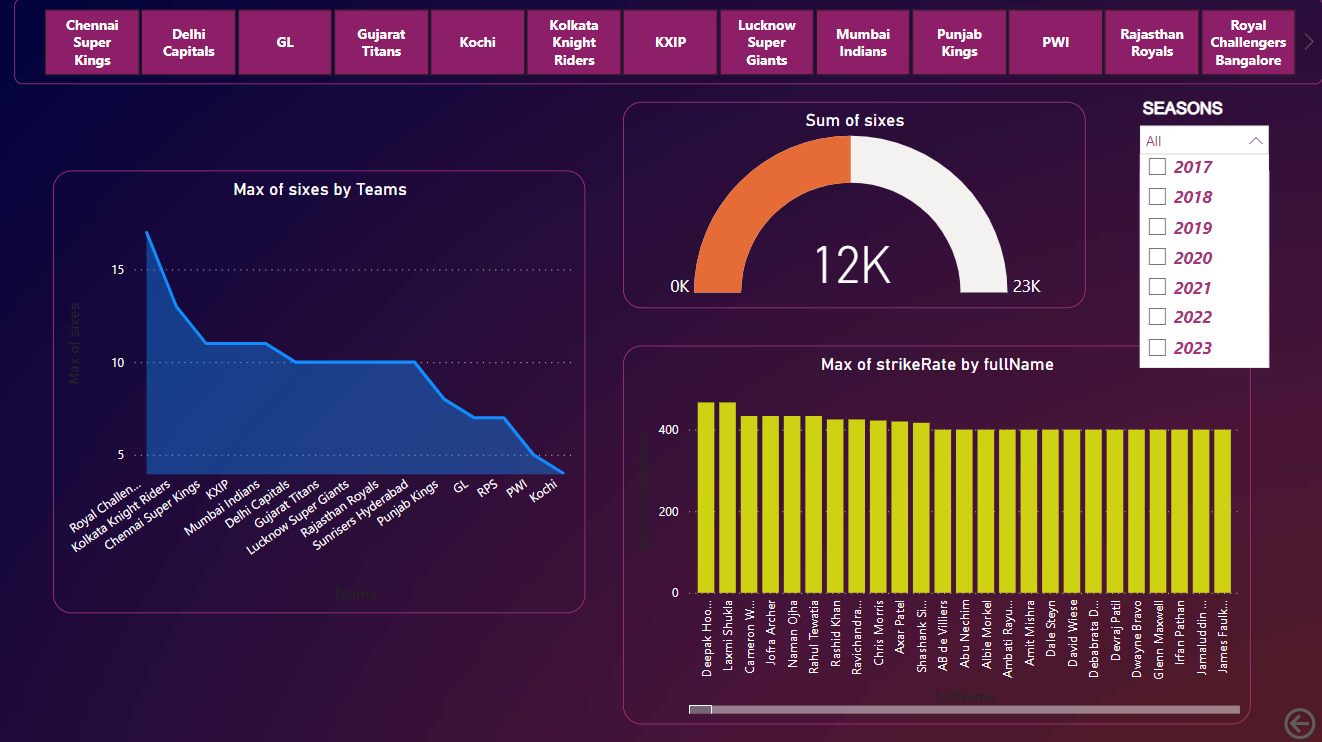

This screenshot's page, from the dashboard's own definition file:
{"tool":"powerbi","page":{"name":"Page 2","canvas":[1280,720],"ordinal":1},"visuals":[{"type":"slicer","title":"ALL seasons Number of sixes and Fours","fields":{"Values":["sixes.Teams"]},"box":[15.7,0,1263.9,83.2],"z":0},{"type":"gauge","fields":{"Y":["Sum(sixes.sixes)"]},"box":[603,100.1,446.2,199],"z":1000},{"type":"lineStackedColumnComboChart","fields":{"Category":["sixes.fullName"],"Y":["Max(sixes.strikeRate)"]},"box":[603,335.3,605.4,365.4],"z":2000},{"type":"stackedAreaChart","fields":{"Category":["strike rates (2).Teams"],"Y":["Max(strike rates (2).sixes)"]},"box":[53.1,166.4,513.8,426.9],"z":3000},{"type":"actionButton","box":[1236.2,680.2,43.4,39.8],"z":4000},{"type":"slicer","fields":{"Values":["sixes.season"]},"box":[1091.5,90.5,144.7,76],"z":5000}]}

Visuals, with their boxes in screenshot pixels (x1, y1, x2, y2), scaled from the page's 1280x720 canvas onto the 1322x742 screenshot:
"ALL seasons Number of sixes and Fours" slicer: {"left": 16, "top": 0, "right": 1321, "bottom": 86}
gauge - Sum(sixes.sixes): {"left": 623, "top": 103, "right": 1084, "bottom": 308}
lineStackedColumnComboChart - sixes.fullName x Max(sixes.strikeRate): {"left": 623, "top": 346, "right": 1248, "bottom": 722}
stackedAreaChart - strike rates (2).Teams x Max(strike rates (2).sixes): {"left": 55, "top": 171, "right": 586, "bottom": 611}
actionButton: {"left": 1277, "top": 701, "right": 1321, "bottom": 741}
slicer - sixes.season: {"left": 1127, "top": 93, "right": 1277, "bottom": 172}
